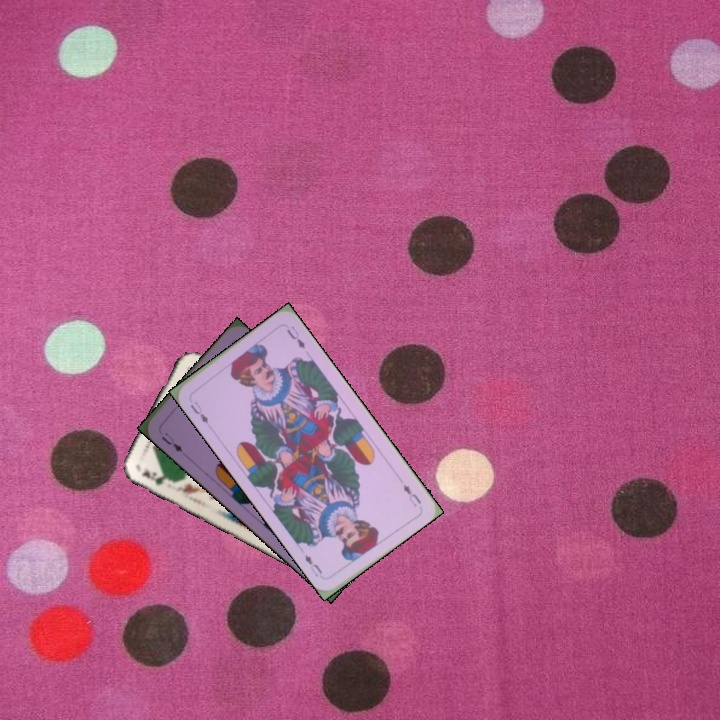EU: (157, 428, 185, 455), (399, 480, 424, 510), (186, 397, 211, 426)
GK: (138, 466, 175, 488)
